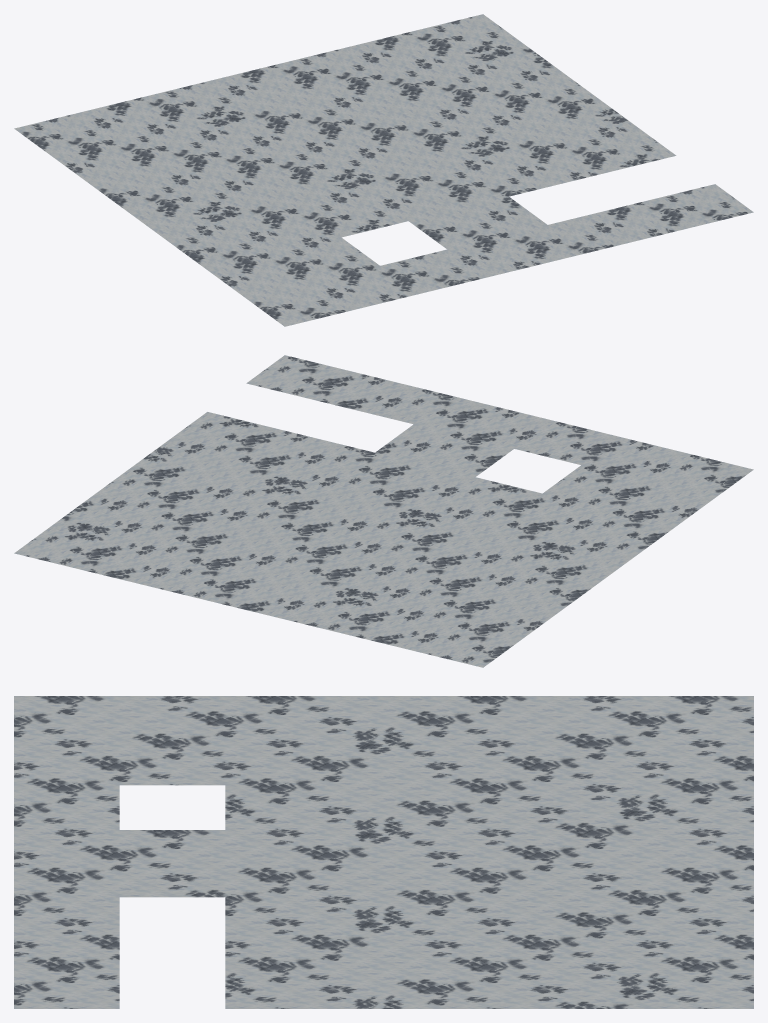
Rendered from oTerrainGroundMap03F.FBX.
3 renders of one model, top to bottom at view 1: azimuth 30°, elevation 25°; view 2: azimuth 150°, elevation 25°; view 3: azimuth 270°, elevation 25°, orthographic. The views are drawn at different scales.
Visible parts, largest first — view 1: oTerrainGroundMap03F; view 2: oTerrainGroundMap03F; view 3: oTerrainGroundMap03F.
Boxes of the visible parts, left/top/right/bottom form: oTerrainGroundMap03F: left=14, top=14, right=753, bottom=326; oTerrainGroundMap03F: left=14, top=355, right=753, bottom=667; oTerrainGroundMap03F: left=14, top=696, right=753, bottom=1008.
Size of the model in its own units: 658 by 7.63e-06 by 658.
Materials: 1 (1 with a texture image).
